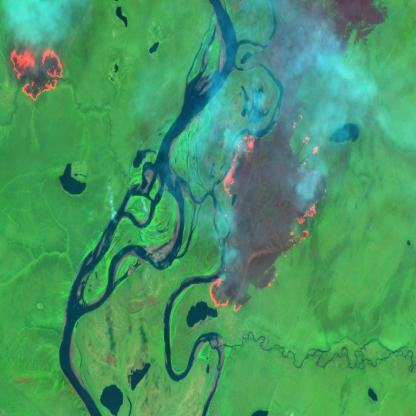fire: (211, 108, 321, 316), (6, 40, 66, 110)
